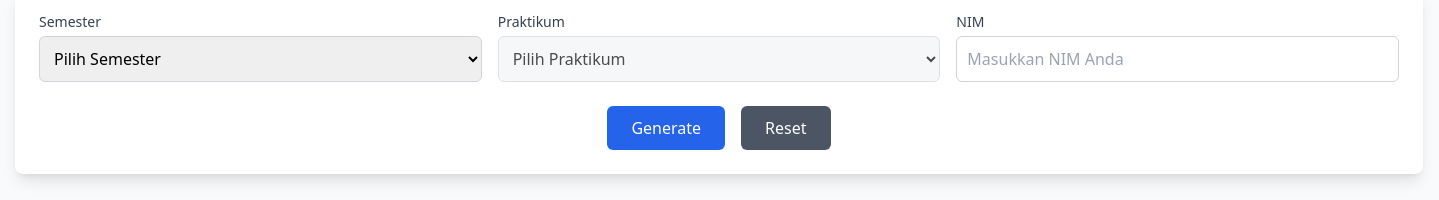
Test: Form Component › filters praktikum options based on selected semester
This screenshot has width=1439, height=200.
Select "Semester 1" in the dropdown labelled "Semester": (260, 59) [39,36,482,82]
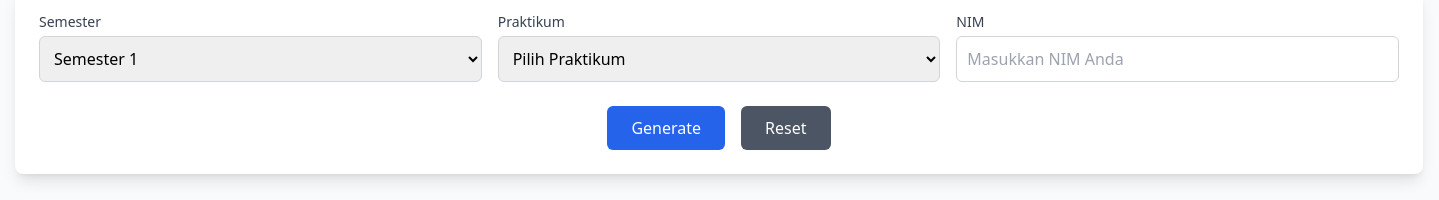
Expected: the dropdown labelled "Praktikum" is enabled, [498,36,940,82]
